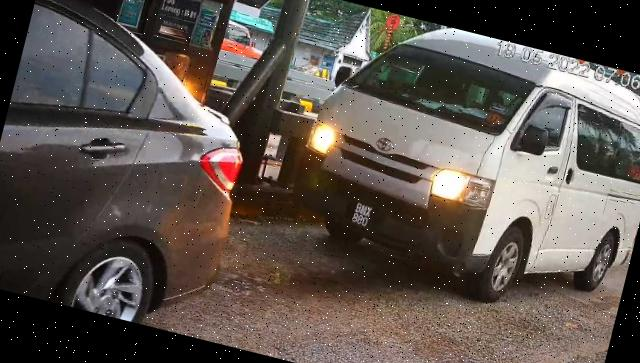License_Plate: (341, 195, 386, 238)
van: (280, 1, 640, 337)
